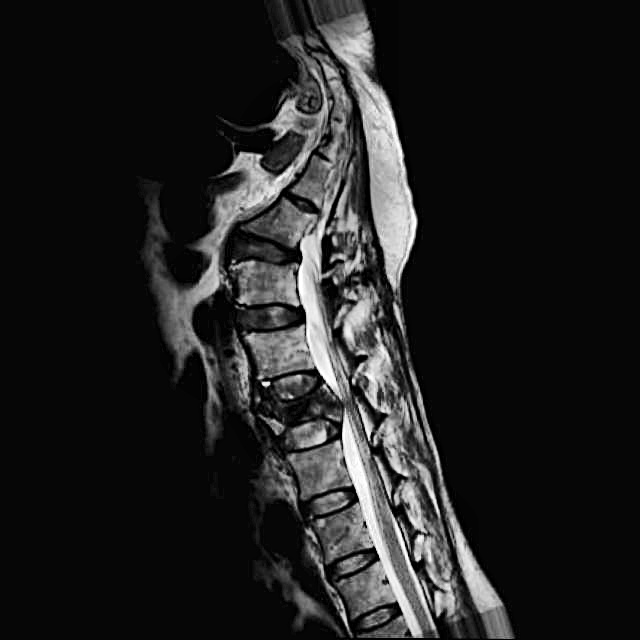Comminuted: (251, 355, 351, 458)
